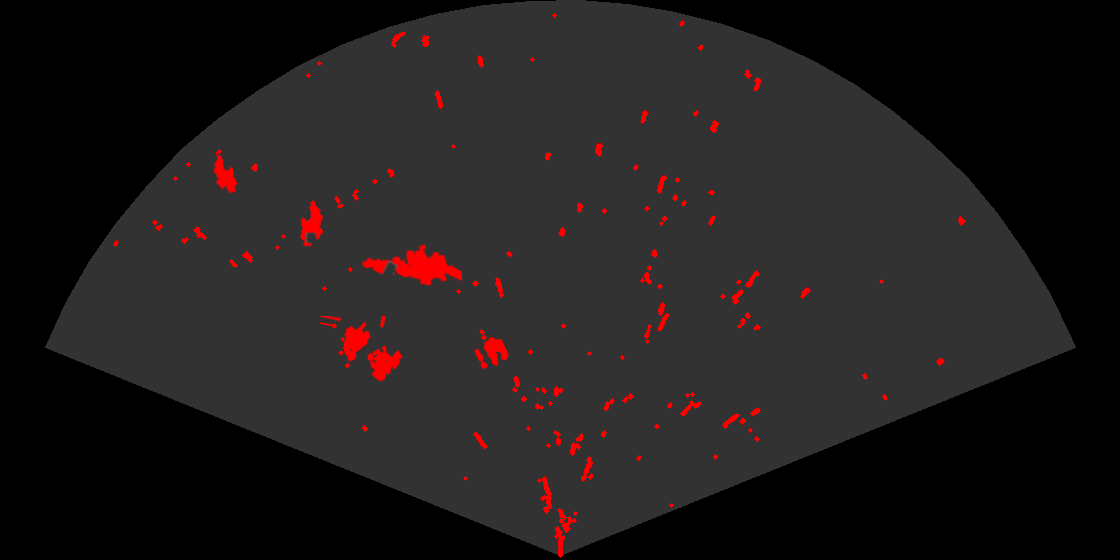AUV: (299, 199, 325, 248), (212, 152, 239, 195)
ball: (473, 335, 510, 371)
cage: (320, 316, 404, 383)
frogman: (360, 242, 462, 288)
